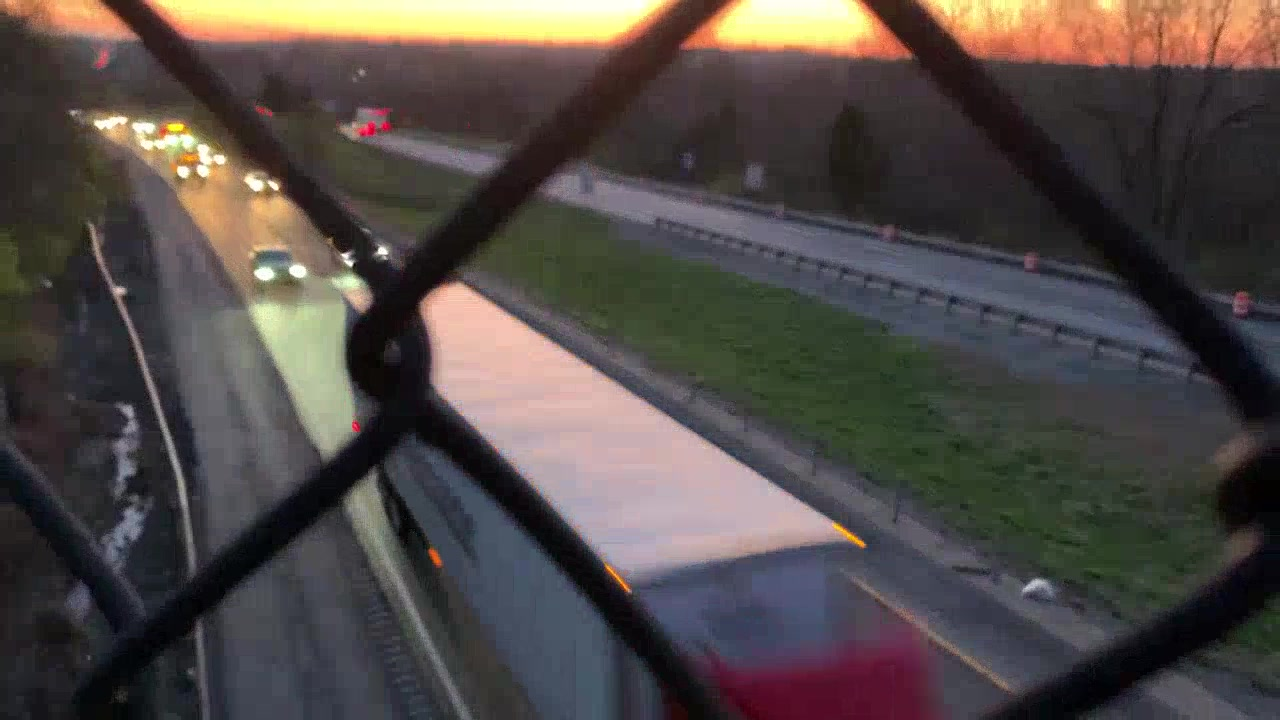heavyTruck: (342, 260, 926, 715), (353, 103, 393, 132)
smallCar: (244, 242, 310, 286), (240, 167, 279, 201)
vehicle: (168, 151, 209, 191), (160, 117, 194, 150), (128, 118, 162, 136), (196, 150, 228, 169), (133, 137, 163, 157)
